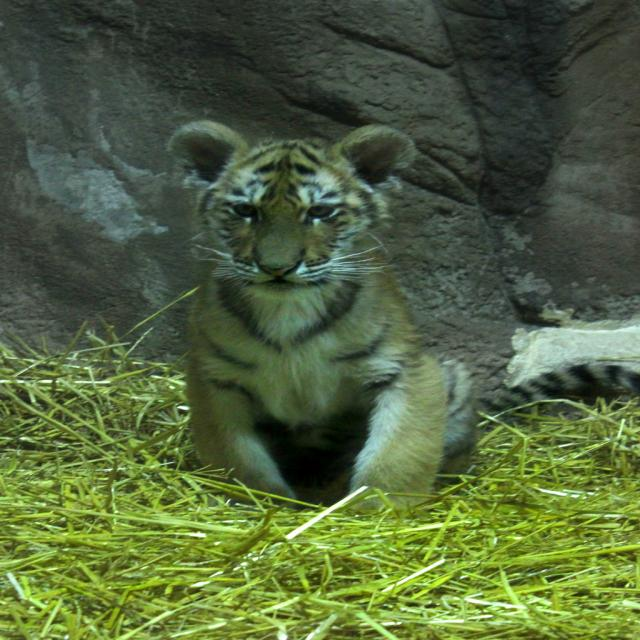Tiger: (168, 127, 640, 522)
